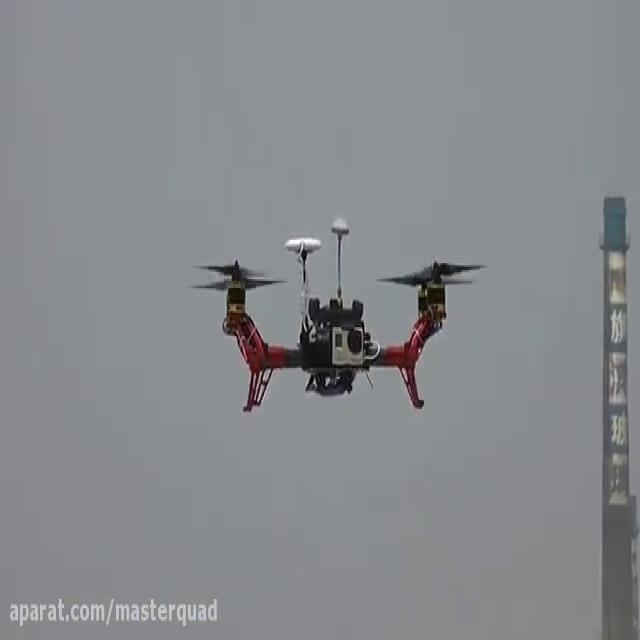drone: (184, 212, 490, 416)
